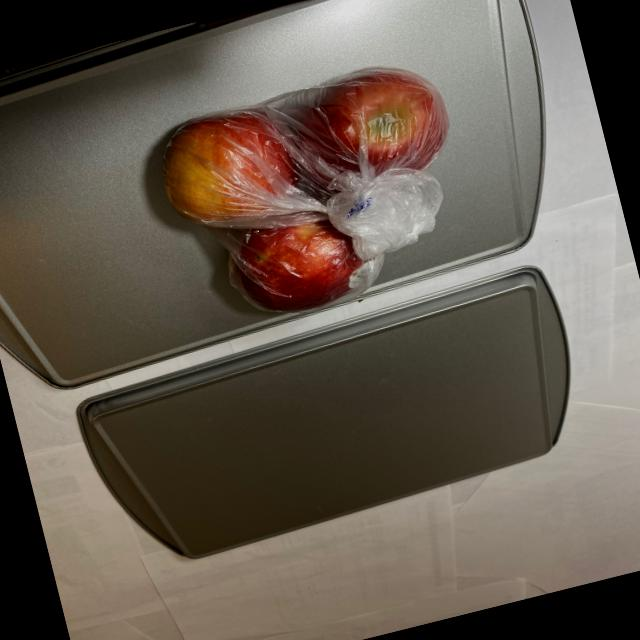apple: (136, 48, 484, 341)
